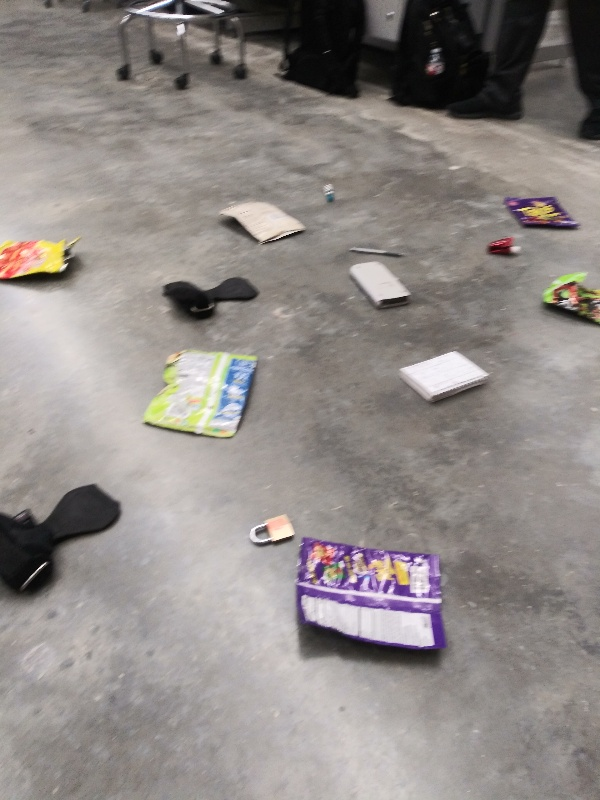bag: (293, 535, 454, 664), (143, 347, 263, 444), (215, 198, 314, 249), (1, 229, 84, 287), (538, 269, 600, 331), (497, 194, 585, 235)
bottle: (424, 44, 448, 80)
